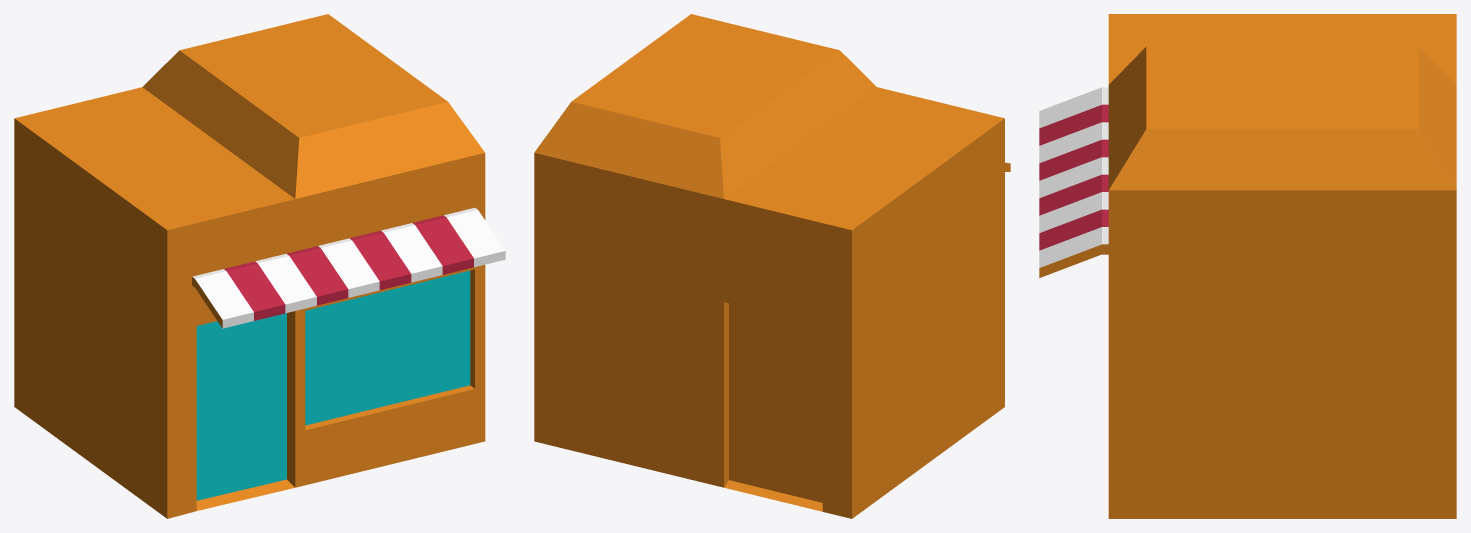
Rendered from shop.obj.
3 renders of one model, left to right at view 1: azimuth 30°, elevation 25°; view 2: azimuth 150°, elevation 25°; view 3: azimuth 270°, elevation 25°, orthographic. The views are drawn at different scales.
Visible parts, largest first — view 1: shop_Cube.005; view 2: shop_Cube.005; view 3: shop_Cube.005.
Part boxes in pixels (left/top/right/bottom): shop_Cube.005: left=14, top=14, right=505, bottom=518; shop_Cube.005: left=534, top=14, right=1010, bottom=518; shop_Cube.005: left=1039, top=14, right=1456, bottom=518.
Size of the model in its own units: 10 by 10 by 10.
1 material, 1 textured.
